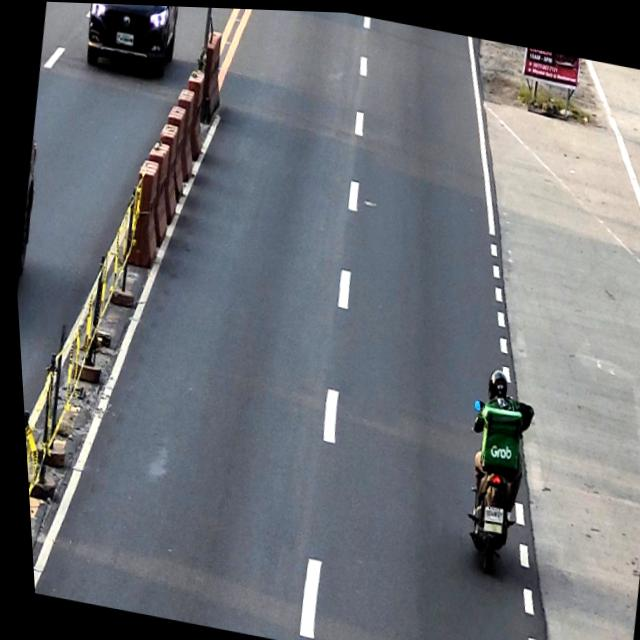Car: (78, 2, 184, 79)
License-Plate: (477, 502, 499, 521), (115, 31, 134, 45)
Motorcycle: (443, 393, 532, 577)
